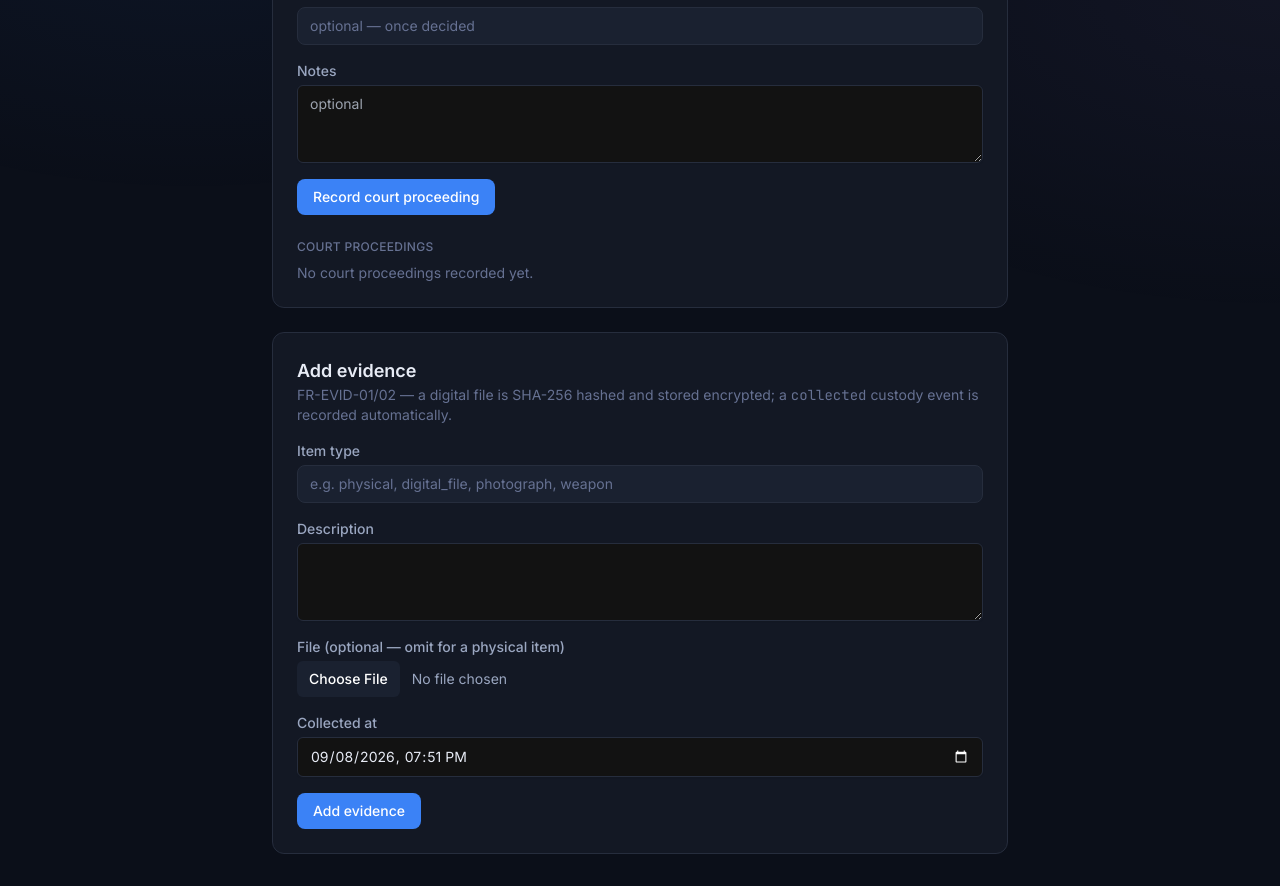
Test: CaseDetailPage › upload flow › omits the file field for a physical item and shows no hash
The width and height of the screenshot is (1280, 886).
(page scrolled)
Type "digital_file" into the field labelled "Item type" at (640, 484), box [297, 465, 983, 503]
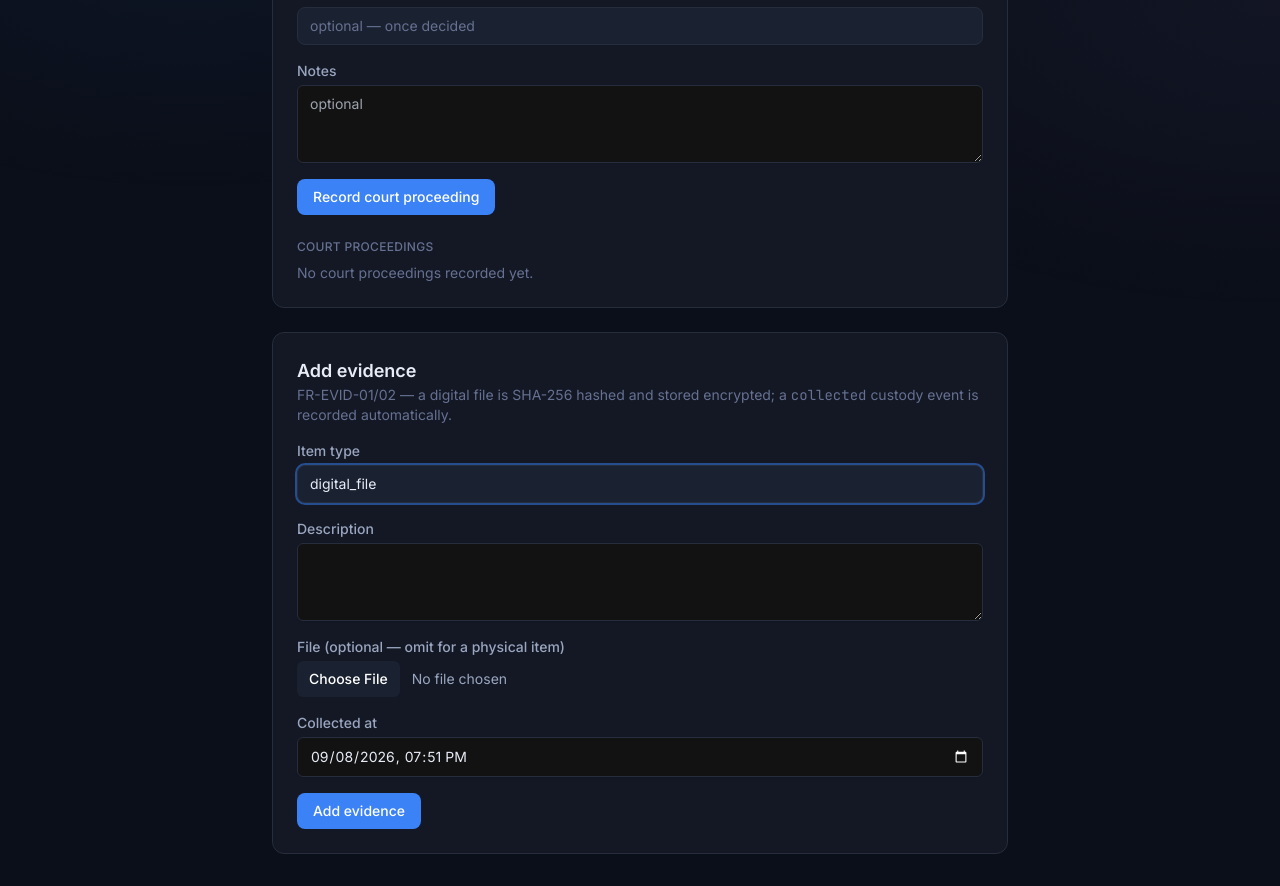
Type "seized laptop image" into the text box labelled "Description" at (640, 582), box [297, 543, 983, 621]
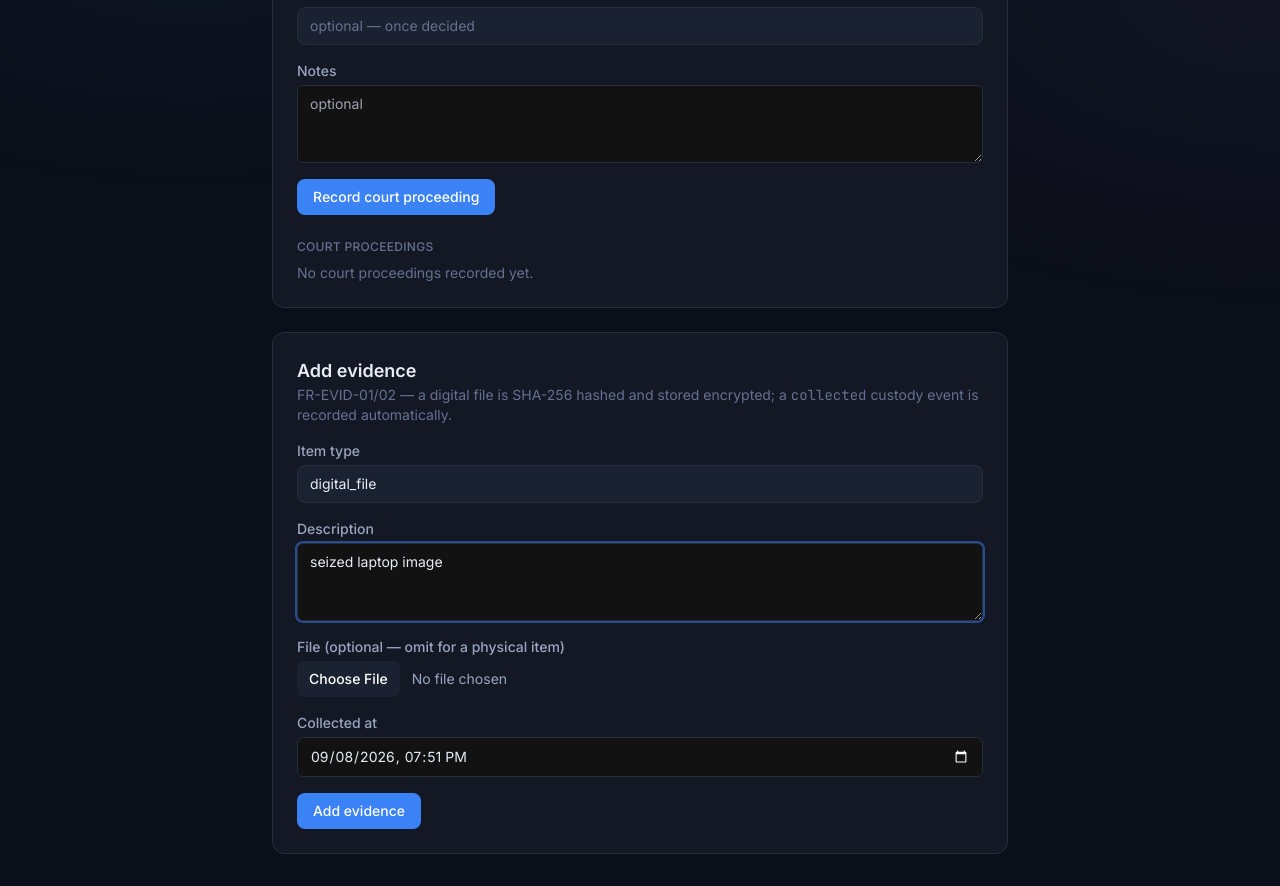
Click the button "Add evidence" at (359, 811), box [297, 793, 421, 829]
(page scrolled)
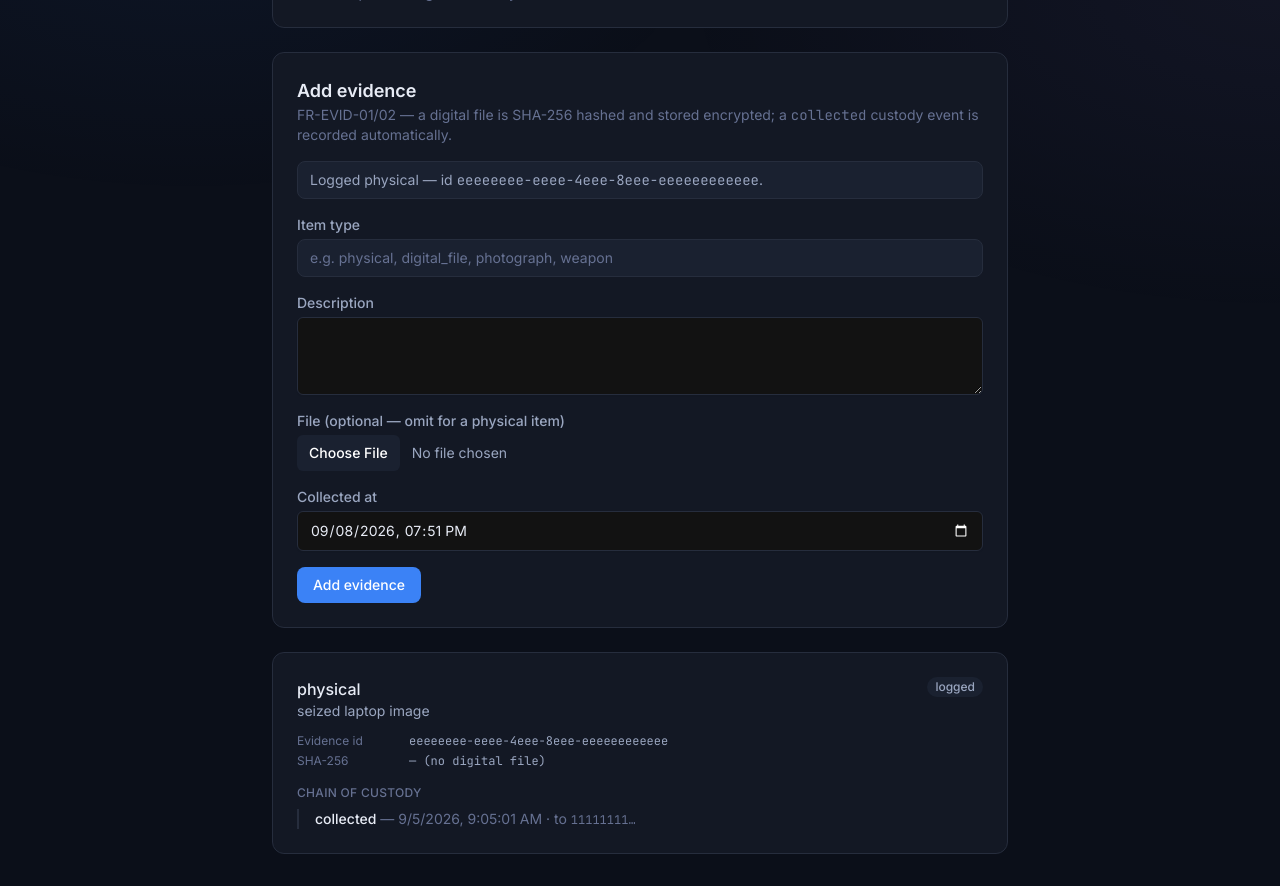
Now the text "— (no digital file)" is shown, box [409, 753, 546, 769]
